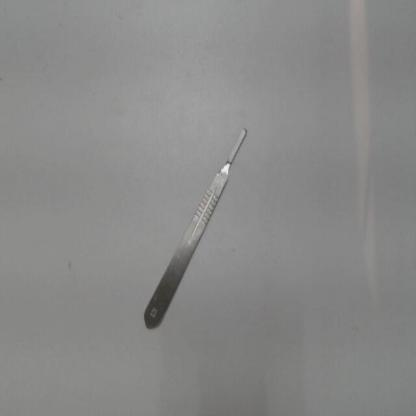No.4 BP Handle: (135, 120, 260, 342)
